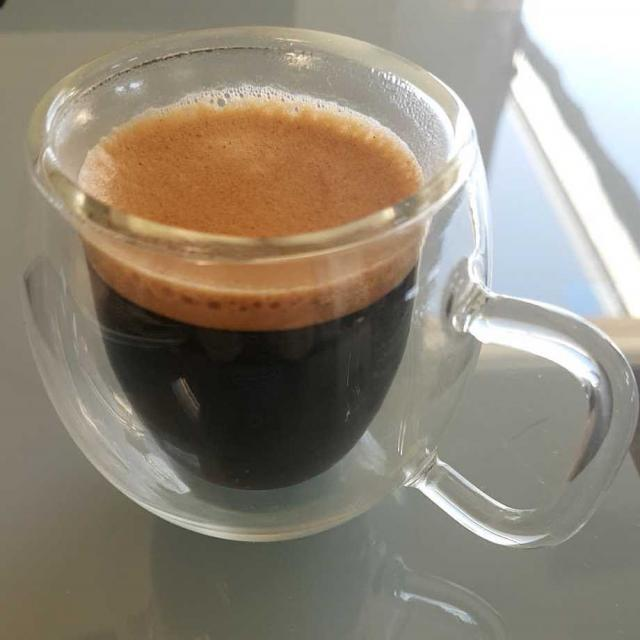drink: (81, 100, 414, 233)
espresso: (81, 100, 414, 233)
